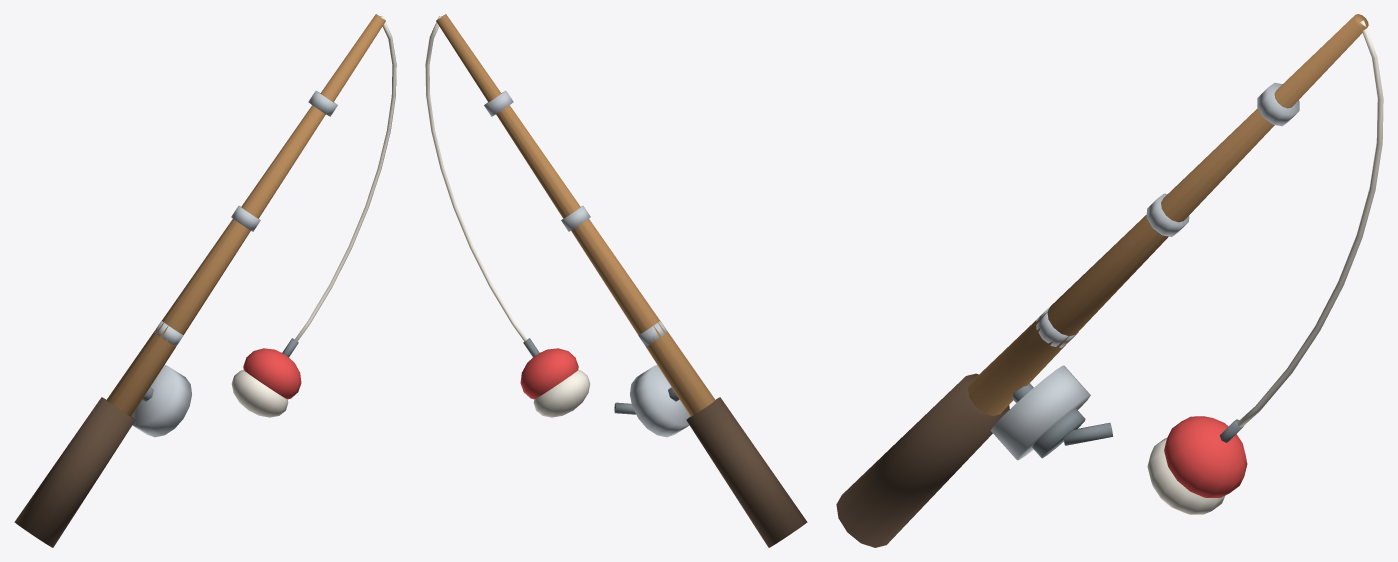
Rendered from tool-rod.glb.
The picture shows the model from 3 angles, left to right: view 1: azimuth 30°, elevation 25°; view 2: azimuth 150°, elevation 25°; view 3: azimuth 330°, elevation 25°; orthographic projection. The views are drawn at different scales.
Visible parts, largest first — view 1: tool; view 2: tool; view 3: tool.
Boxes of the visible parts, left/top/right/bottom form: tool: left=14, top=14, right=396, bottom=547; tool: left=425, top=14, right=807, bottom=547; tool: left=836, top=14, right=1383, bottom=547.
Size of the model in its own units: 0.6305 by 0.7171 by 0.1.
